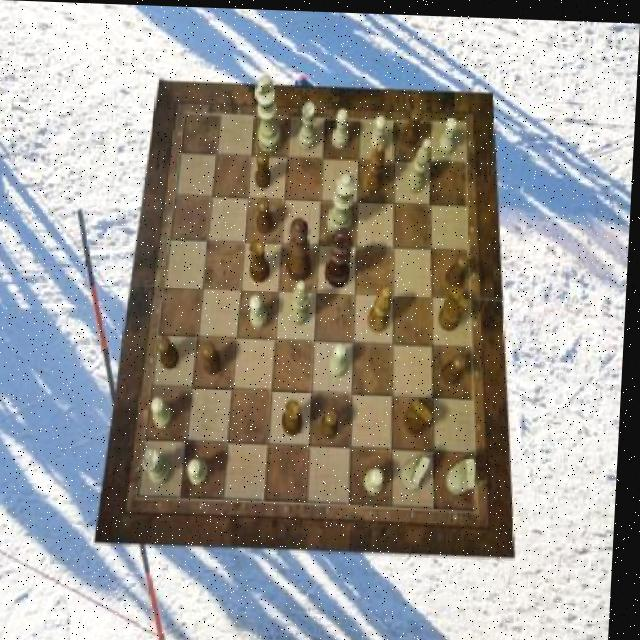bishop: (371, 283, 397, 332), (365, 137, 387, 192)
black-bishop: (326, 224, 356, 286)
black-king: (441, 282, 474, 329), (407, 394, 438, 432)
black-knight: (445, 350, 471, 383), (160, 334, 184, 369), (448, 249, 472, 284), (403, 104, 422, 145), (204, 340, 226, 373), (257, 194, 275, 232), (256, 149, 274, 187), (324, 407, 344, 436)
black-pawn: (288, 216, 315, 281)
black-queen: (250, 237, 274, 281), (286, 395, 309, 433)
black-rook: (405, 133, 432, 190), (290, 278, 312, 324)
white-bishop: (254, 74, 285, 153)
white-king: (450, 452, 482, 491), (404, 452, 434, 489)
white-knight: (154, 396, 178, 429), (440, 113, 459, 152), (334, 107, 352, 147), (370, 113, 388, 152), (332, 339, 351, 374), (252, 292, 271, 327), (192, 459, 214, 485), (368, 465, 389, 491)
white-pawn: (328, 170, 358, 235)
white-queen: (146, 446, 178, 483), (300, 100, 321, 148)
